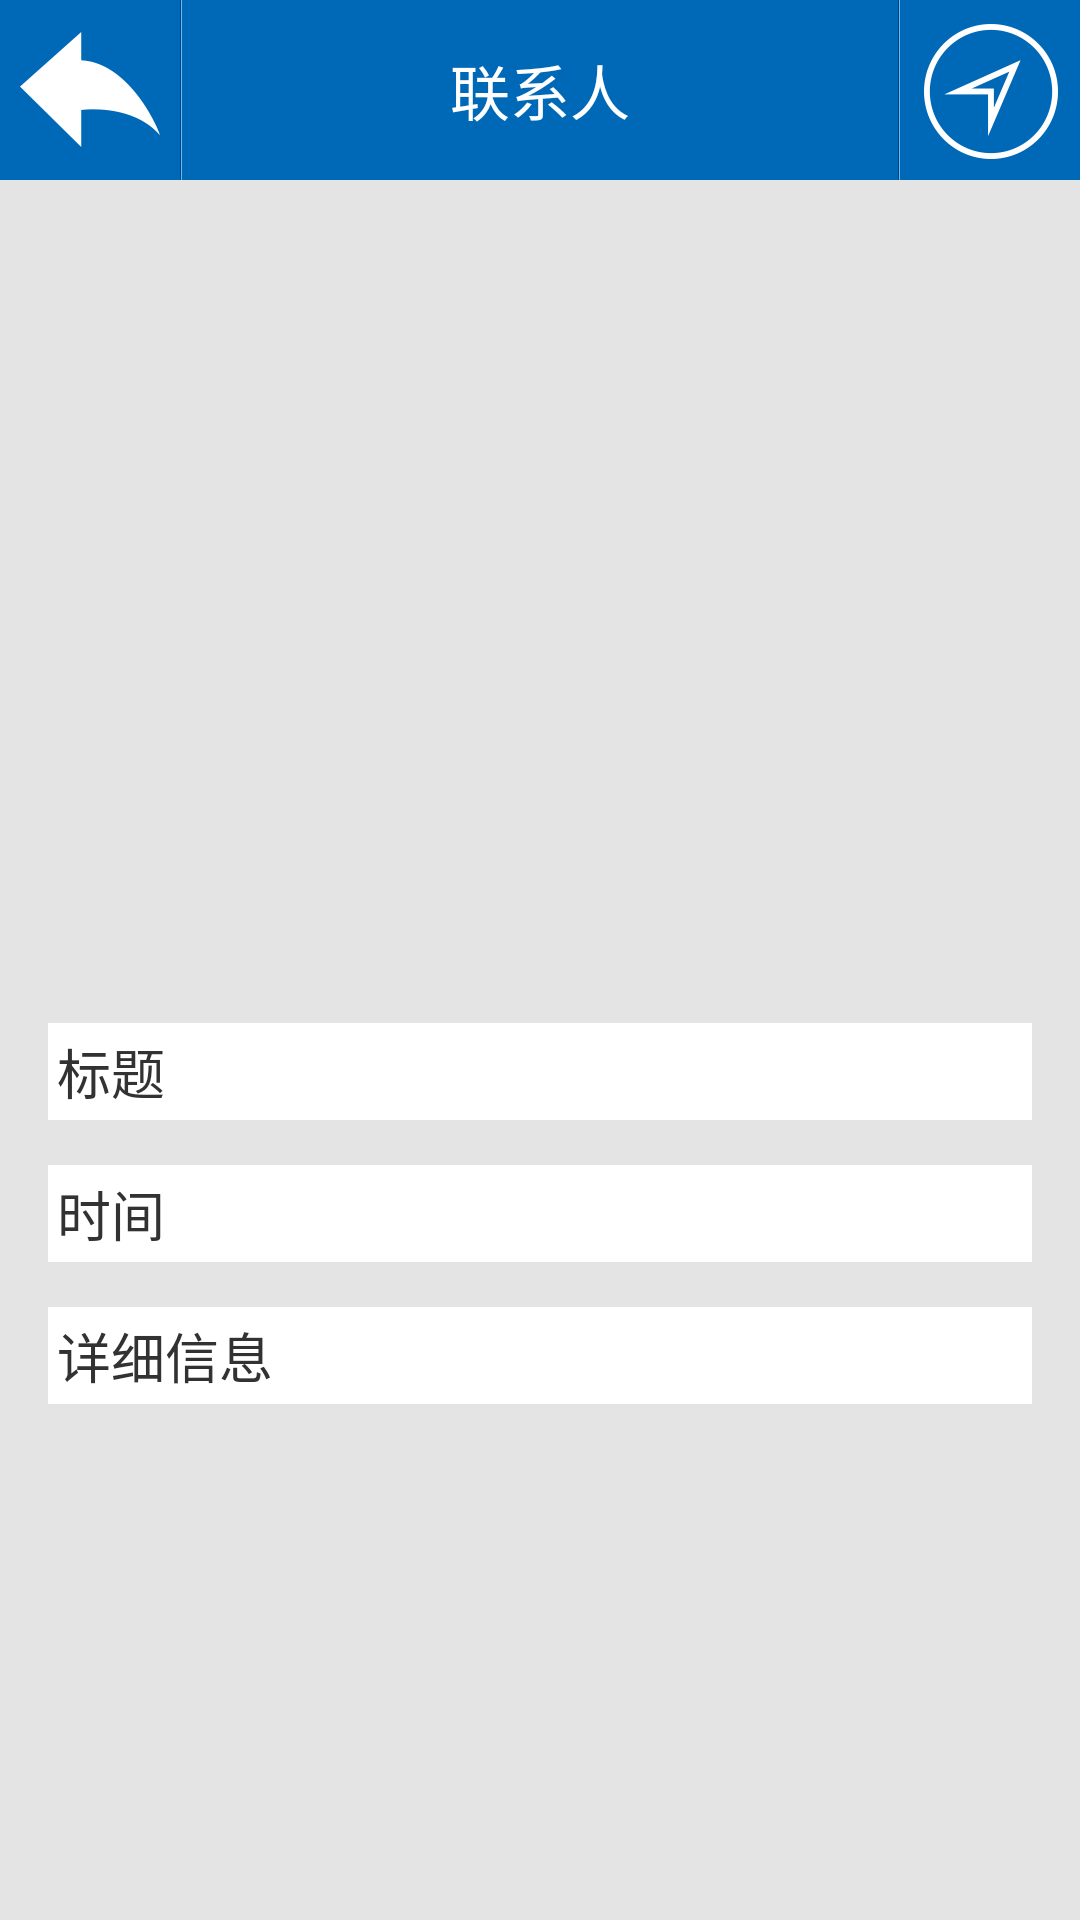

Icons on this 1080 x 1920 Android screen, each with its box as (x1, y1, x2, y2):
click gps: (924, 24, 1058, 159)
click return: (20, 32, 160, 147)
